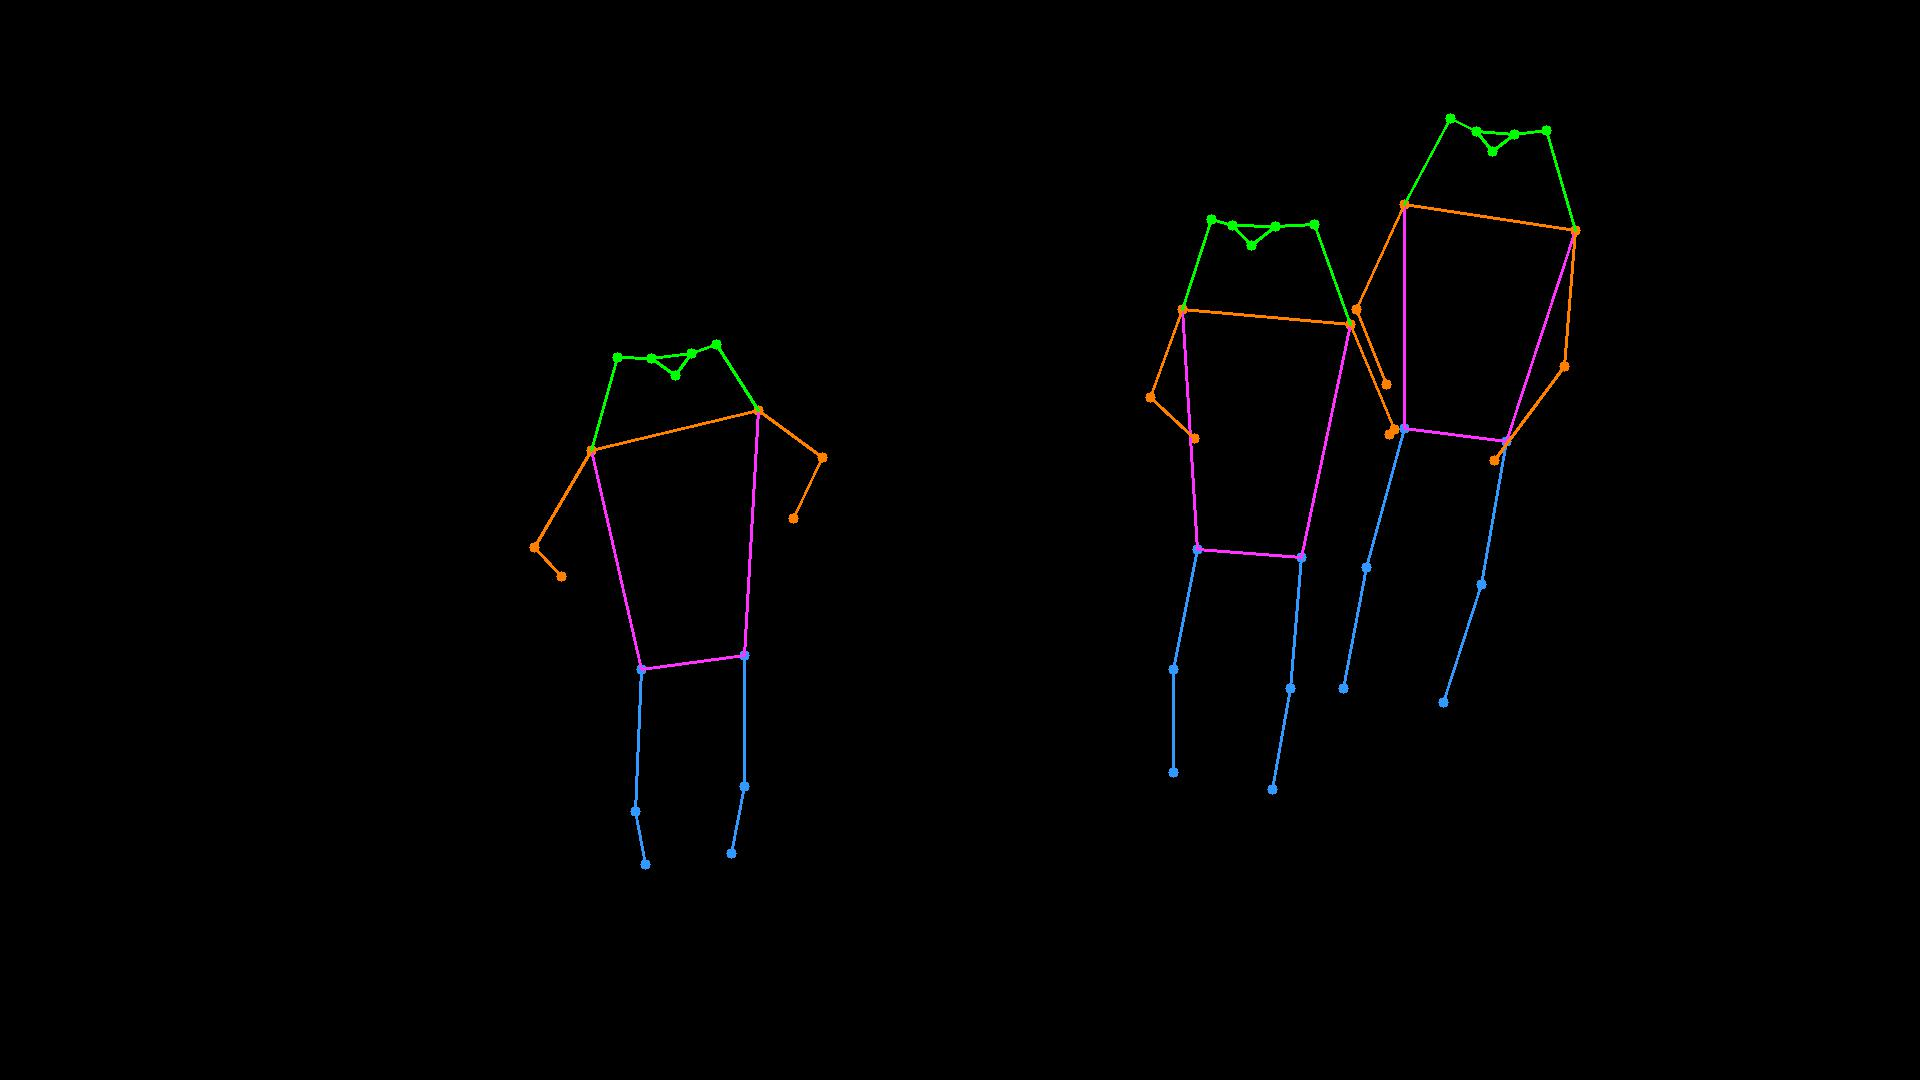normal: (1085, 92, 1633, 833), (497, 291, 855, 899)
